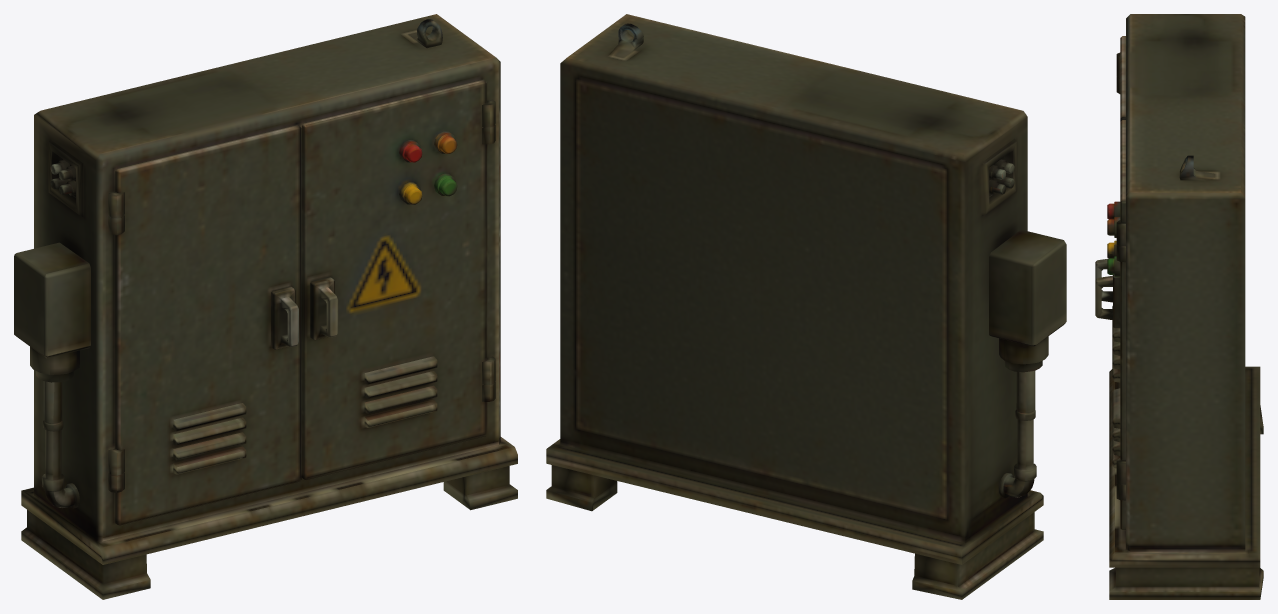
Rendered from electrical_cabinet_double_door.fbx.
The picture shows the model from 3 angles, left to right: view 1: azimuth 30°, elevation 25°; view 2: azimuth 150°, elevation 25°; view 3: azimuth 270°, elevation 25°; orthographic projection. The views are drawn at different scales.
Visible parts, largest first — view 1: electrical_cabinet_double_door; view 2: electrical_cabinet_double_door; view 3: electrical_cabinet_double_door.
Part boxes in pixels (left/top/right/bottom): electrical_cabinet_double_door: left=14, top=14, right=517, bottom=599; electrical_cabinet_double_door: left=546, top=14, right=1066, bottom=599; electrical_cabinet_double_door: left=1095, top=14, right=1263, bottom=599.
Size of the model in its own units: 164 by 157 by 56.64.
